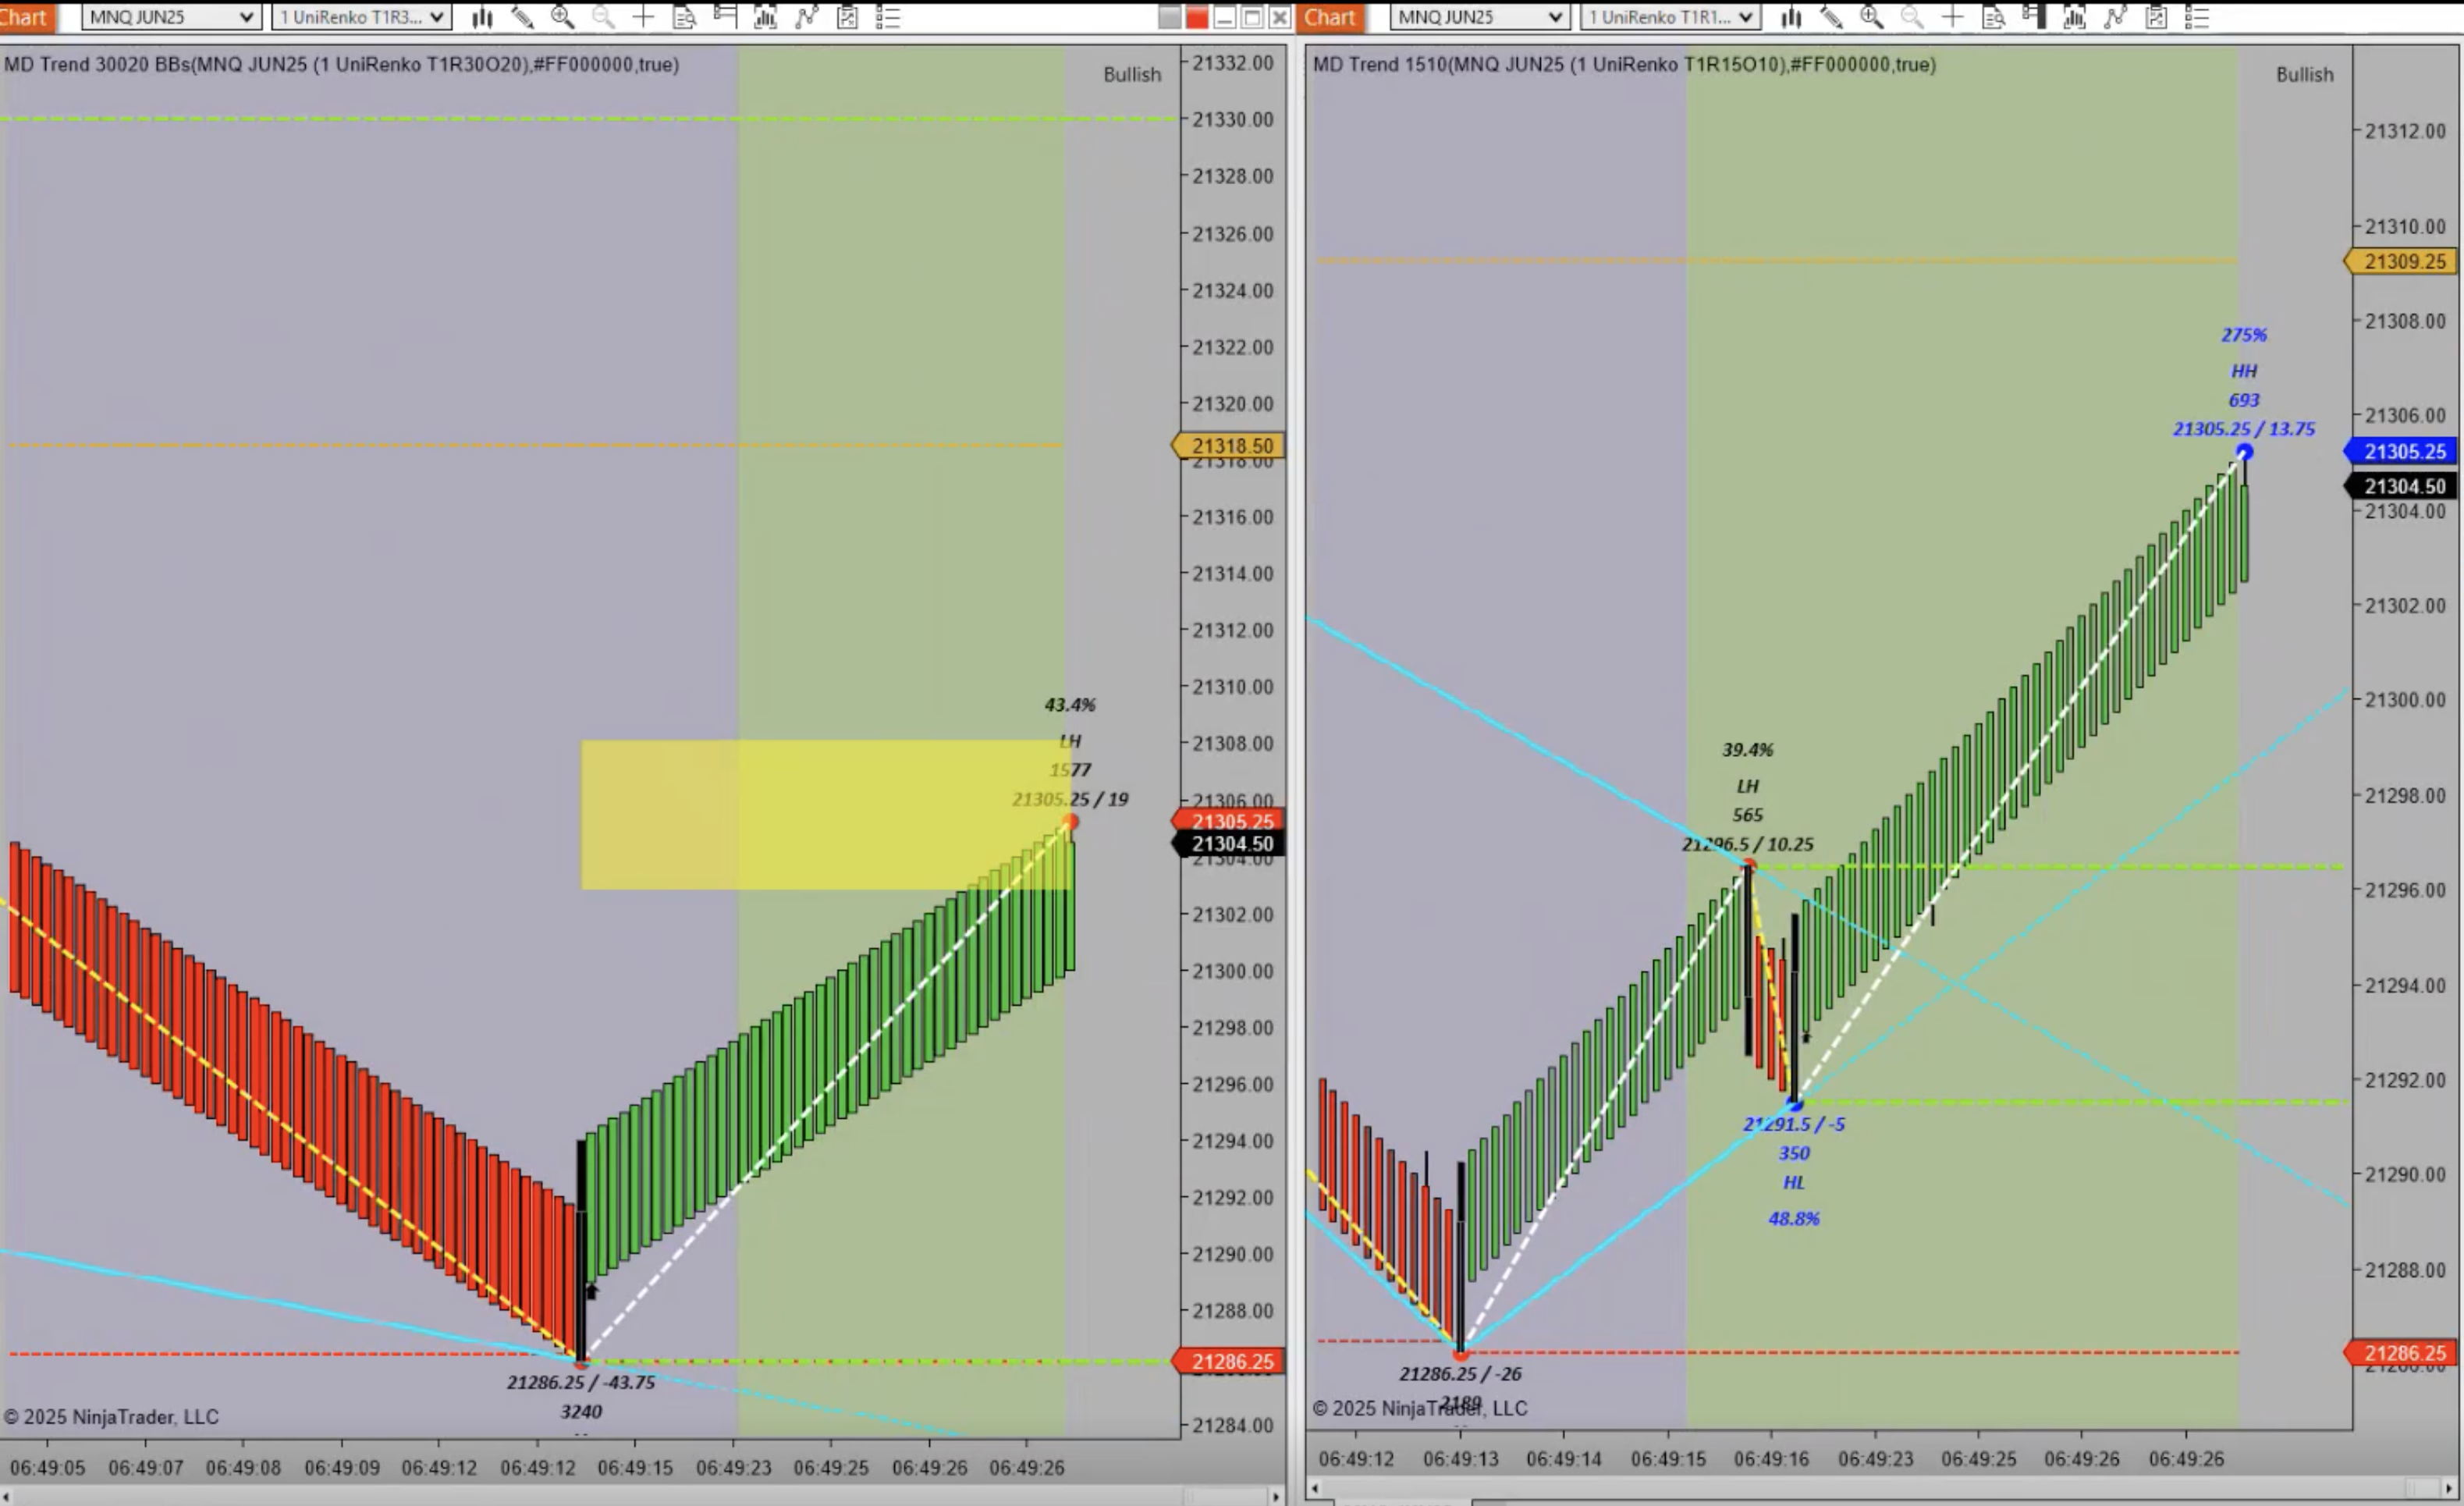candle: (574, 1140, 593, 1367), (1790, 911, 1804, 1105), (1456, 1161, 1466, 1365), (1744, 862, 1755, 1066)
